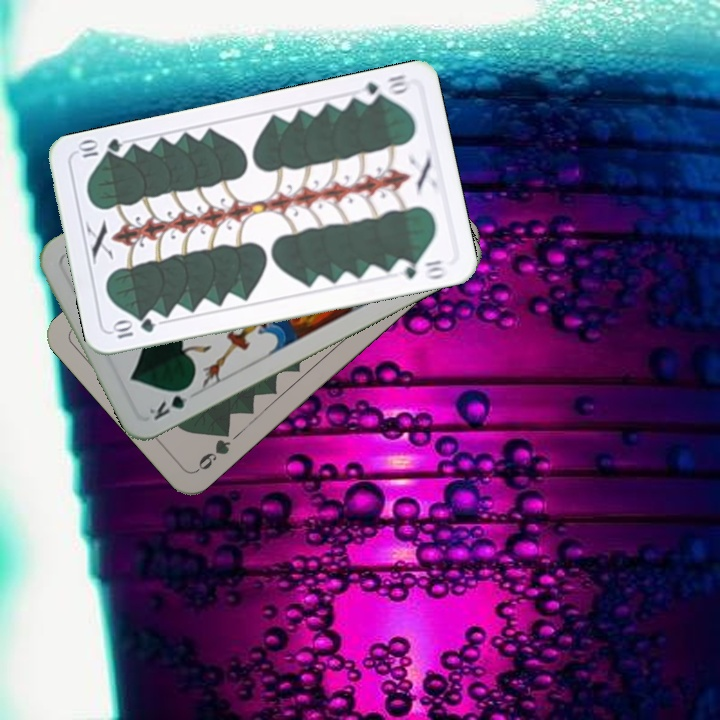G10: (353, 70, 413, 106), (108, 314, 158, 341)
G9: (192, 423, 233, 475)
GK: (145, 381, 195, 423)
